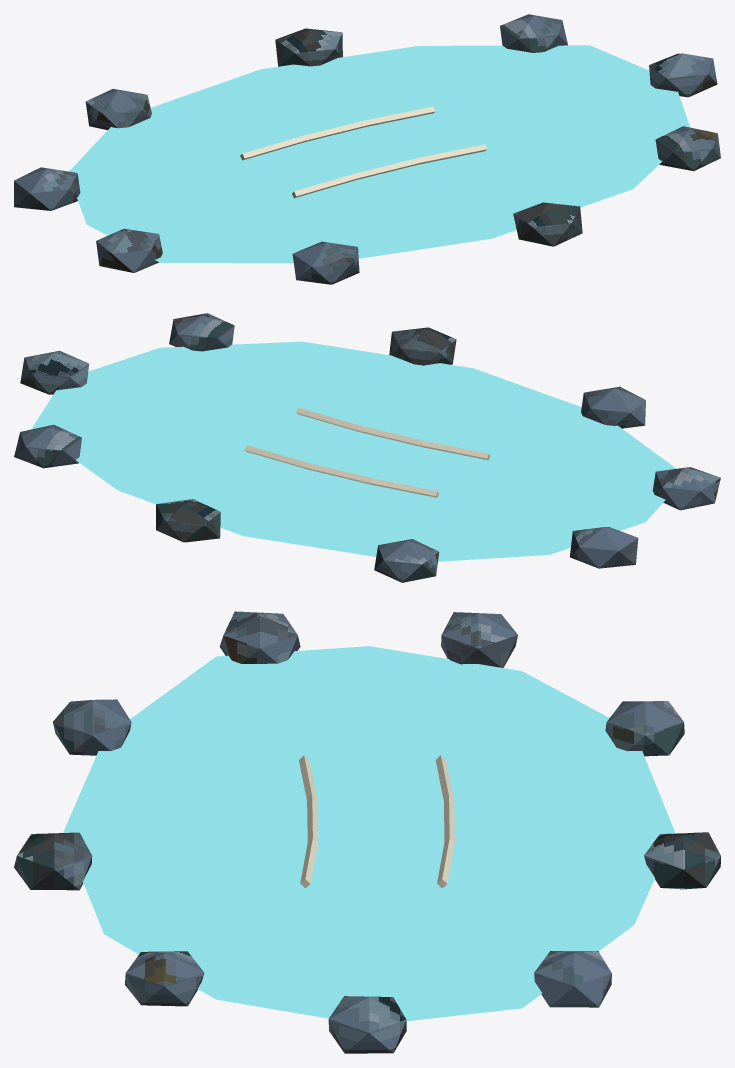
Rendered from enfeite_lago.fbx.
3 views of the same model, one above another, from view 1: azimuth 30°, elevation 25°; view 2: azimuth 150°, elevation 25°; view 3: azimuth 270°, elevation 25° (orthographic). The views are drawn at different scales.
Visible parts, largest first — view 1: pedreira_enfeite_lago; view 2: pedreira_enfeite_lago; view 3: pedreira_enfeite_lago.
Boxes of the visible parts, bbox=[...] form: pedreira_enfeite_lago: bbox=[14, 14, 720, 284]; pedreira_enfeite_lago: bbox=[14, 313, 720, 582]; pedreira_enfeite_lago: bbox=[14, 611, 720, 1053].
Size of the model in its own units: 154 by 9.51 by 109.
3 materials, 1 textured.
